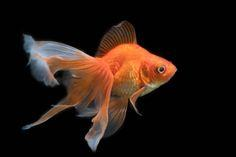goldfish: (54, 29, 186, 121)
